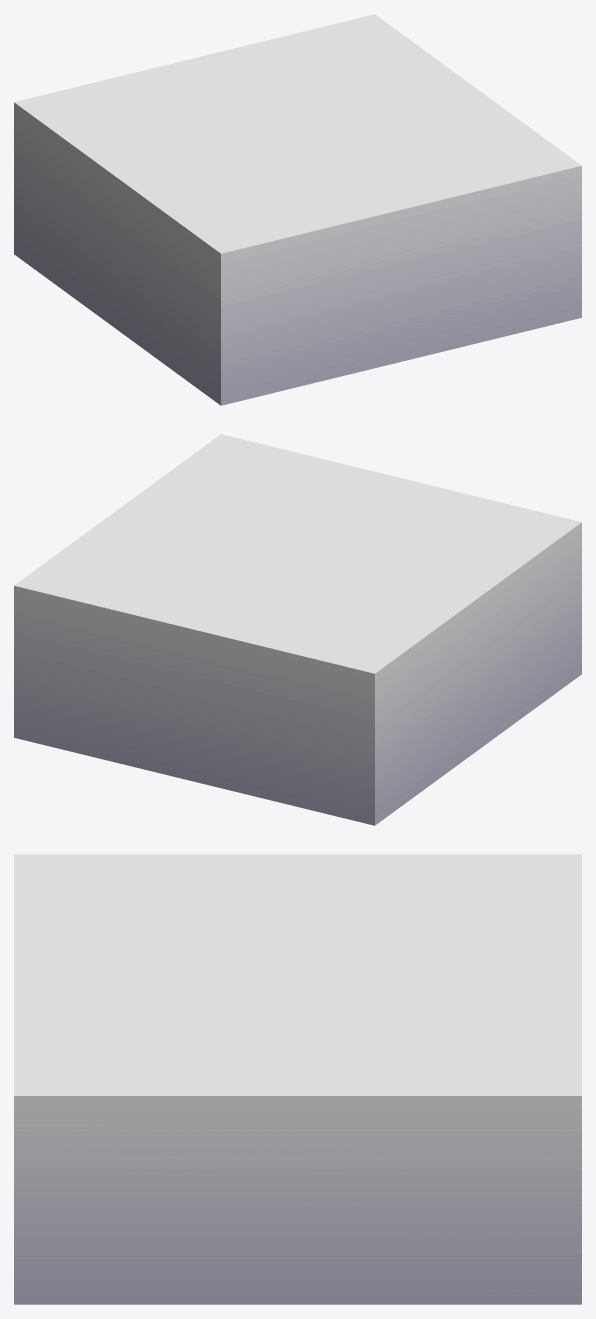
File: brick-kit--none-lq-plate-1x1.glb
3 views of the same model, one above another, from view 1: azimuth 30°, elevation 25°; view 2: azimuth 150°, elevation 25°; view 3: azimuth 270°, elevation 25° (orthographic). The views are drawn at different scales.
Visible parts, largest first — view 1: none-lq-plate-1x1; view 2: none-lq-plate-1x1; view 3: none-lq-plate-1x1.
Part boxes in pixels (x1=…): none-lq-plate-1x1: x1=14, y1=14, x2=581, y2=405; none-lq-plate-1x1: x1=14, y1=434, x2=581, y2=825; none-lq-plate-1x1: x1=14, y1=854, x2=581, y2=1304.
Bounding box in the file's own units: 0.0795 × 0.032 × 0.079.
1 material, 1 textured.
